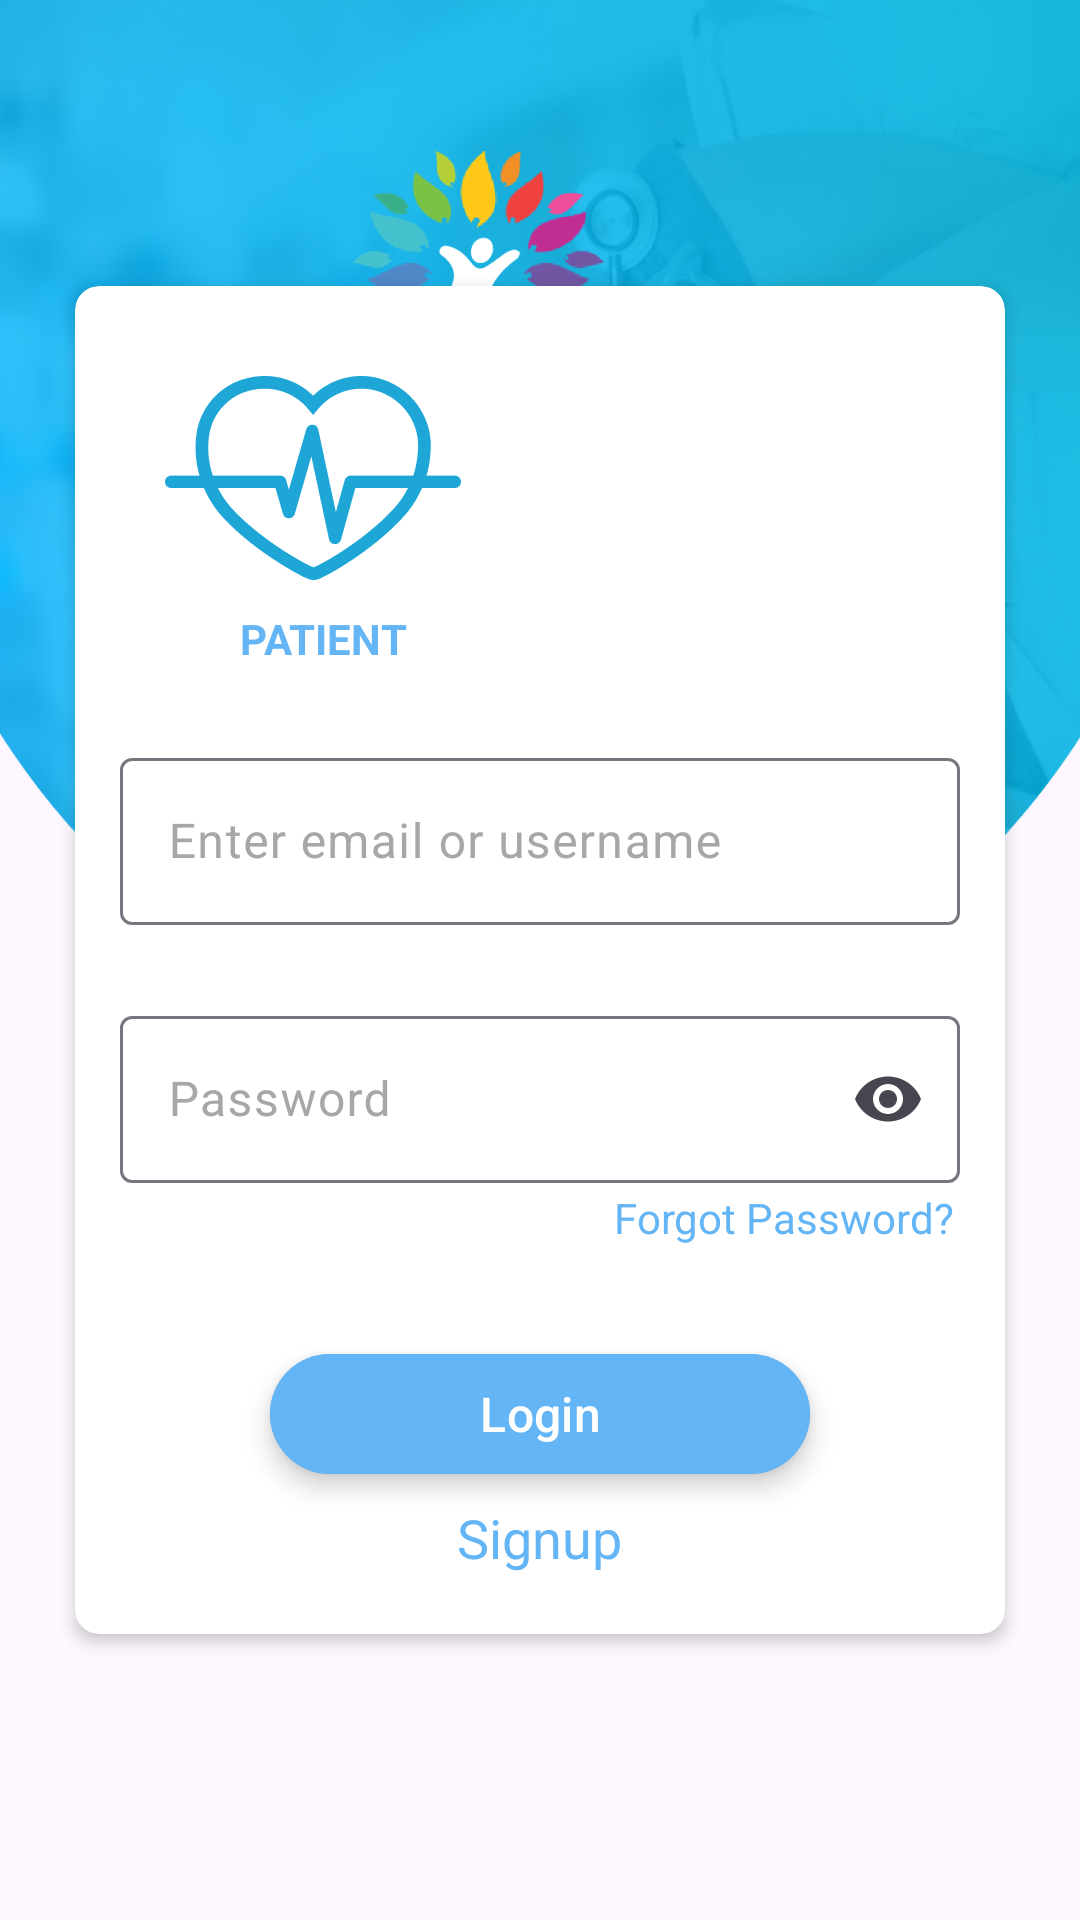

Screen size 1080×1920. Icon name, then its center in pixels as (x,y):
heart: (313,478)
